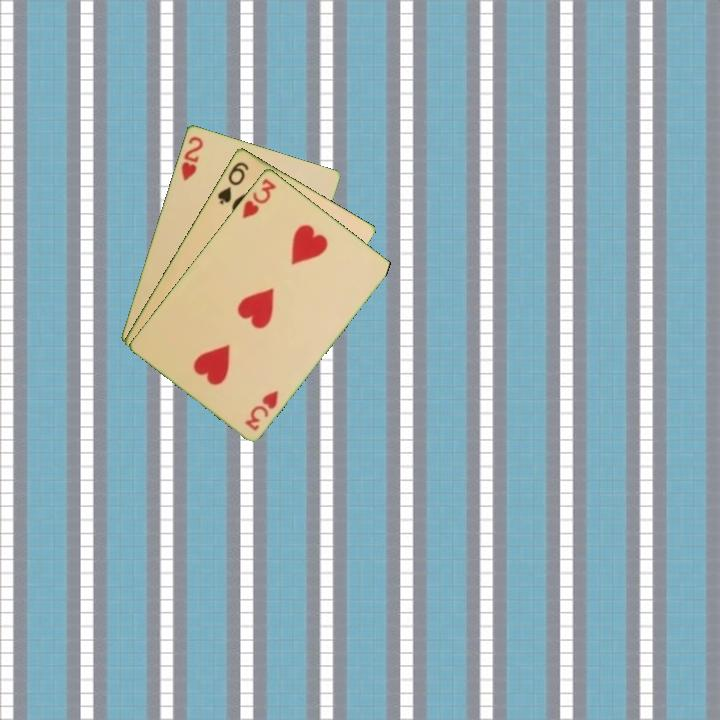2h: (177, 132, 206, 183)
3h: (238, 174, 279, 221), (241, 386, 281, 433)
6s: (214, 158, 251, 207)
